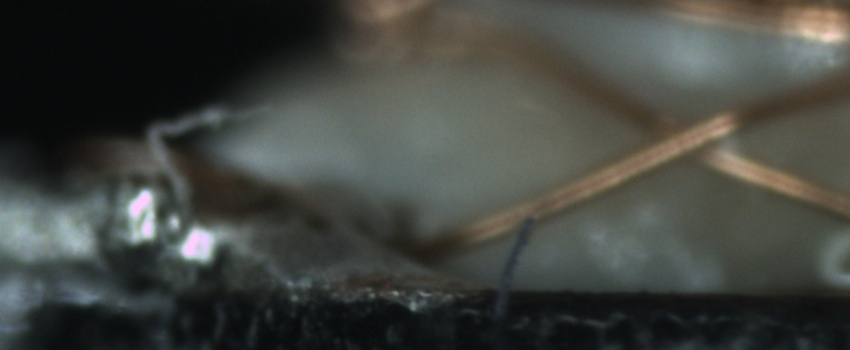CL: (622, 87, 768, 187)
TE: (66, 130, 280, 216)
